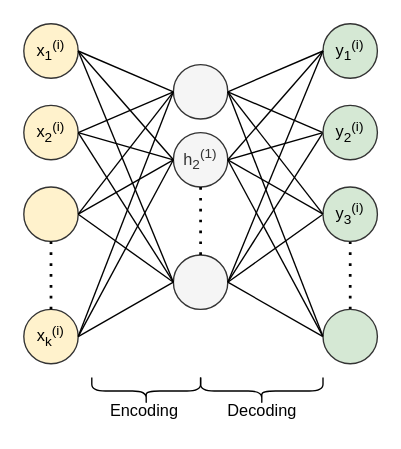
Image size: 401x449. Some labels were removed from this diagram. The centre of each missing label's shape, as x and y in pixels:
"h 1 (1)" belongs at (200,91).
"h n (1)" belongs at (200,281).
"x 3 (i)" belongs at (50,213).
"y k (i)" belongs at (349,336).
